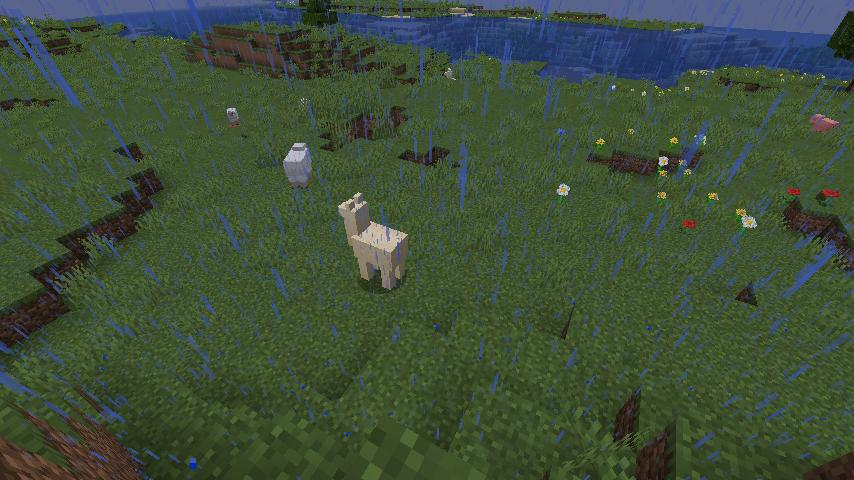llama: (336, 189, 412, 288)
pig: (808, 111, 839, 133)
sheep: (279, 138, 315, 184), (226, 106, 240, 127)
